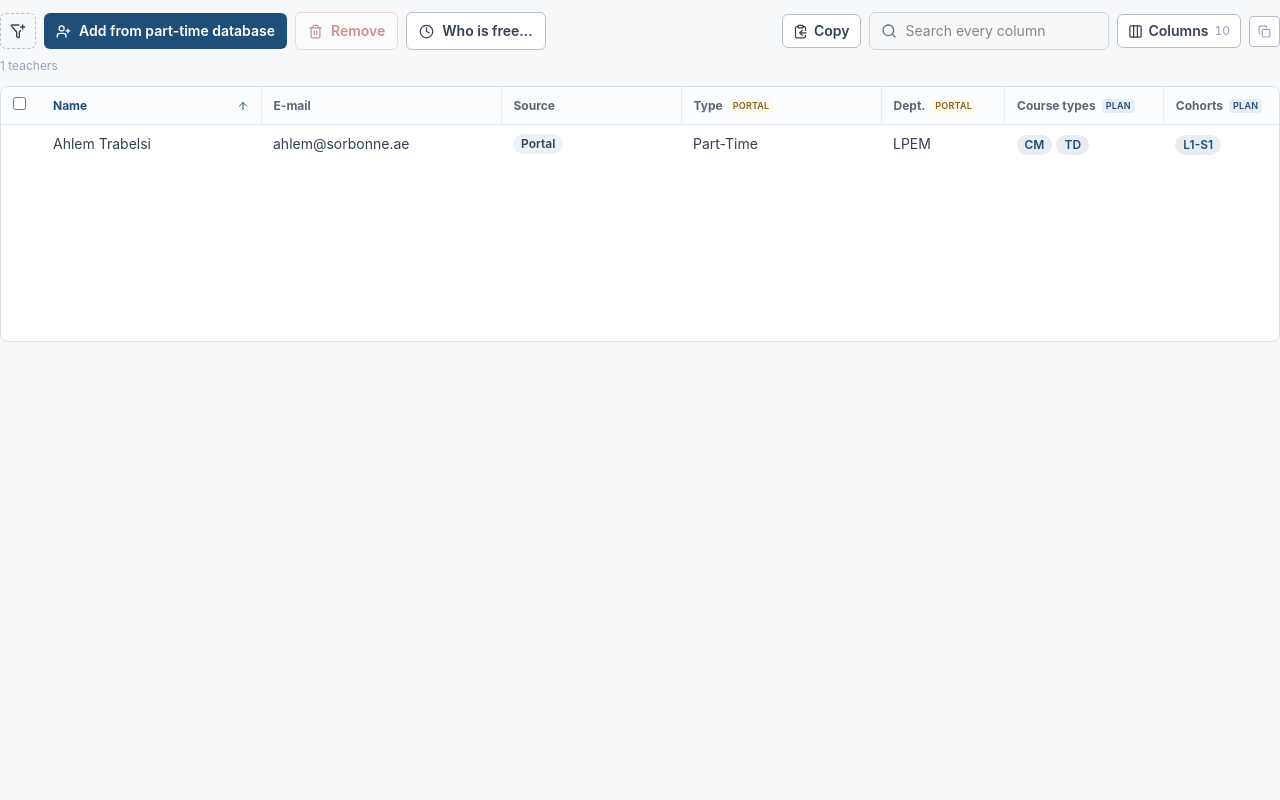
Scenario: the department's active teachers › adds teachers picked from the part-time database
Check: the text "Ahlem Trabelsi" is shown, box [53, 135, 151, 152]
Click the button "Add from part-time database" at (166, 31), box [44, 13, 287, 49]
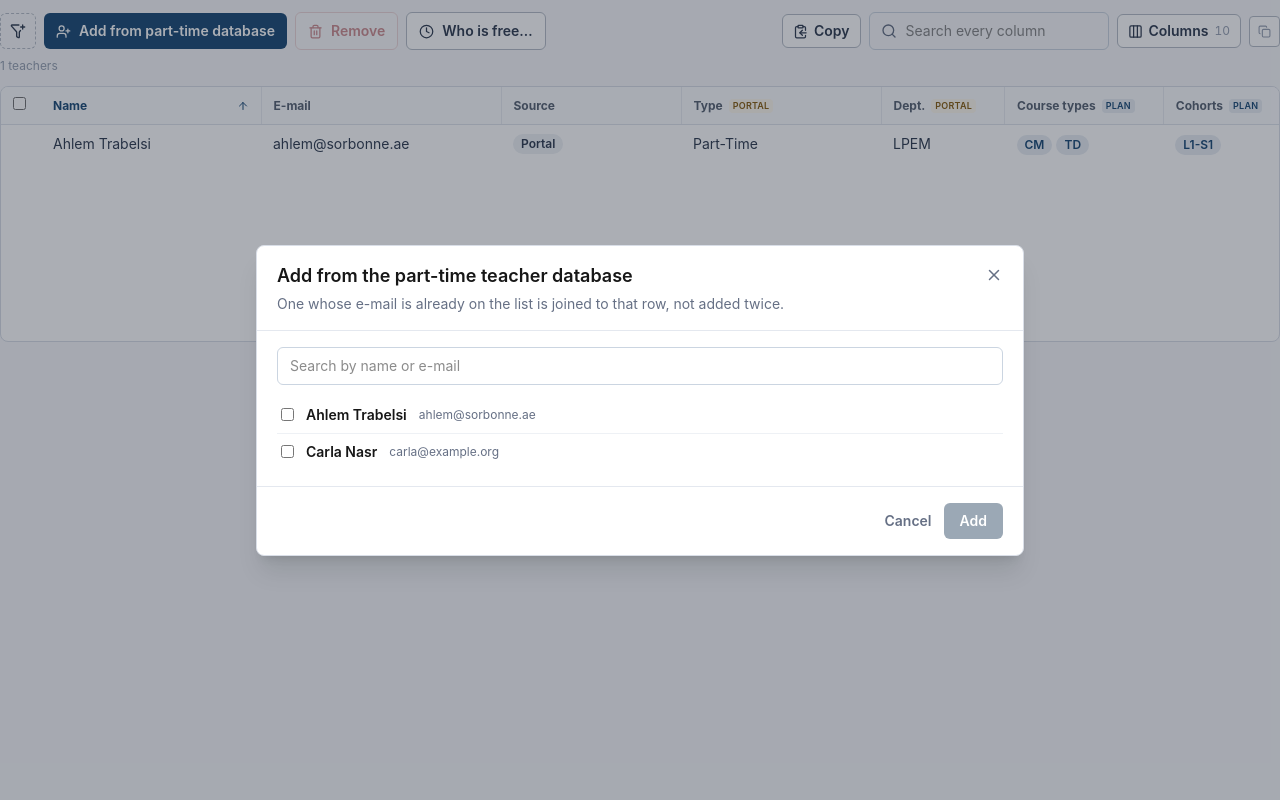
Check: the list named "Part-time teachers" shows "Carla Nasr"
Click the text "Carla Nasr" at (342, 452), box [306, 442, 377, 462]
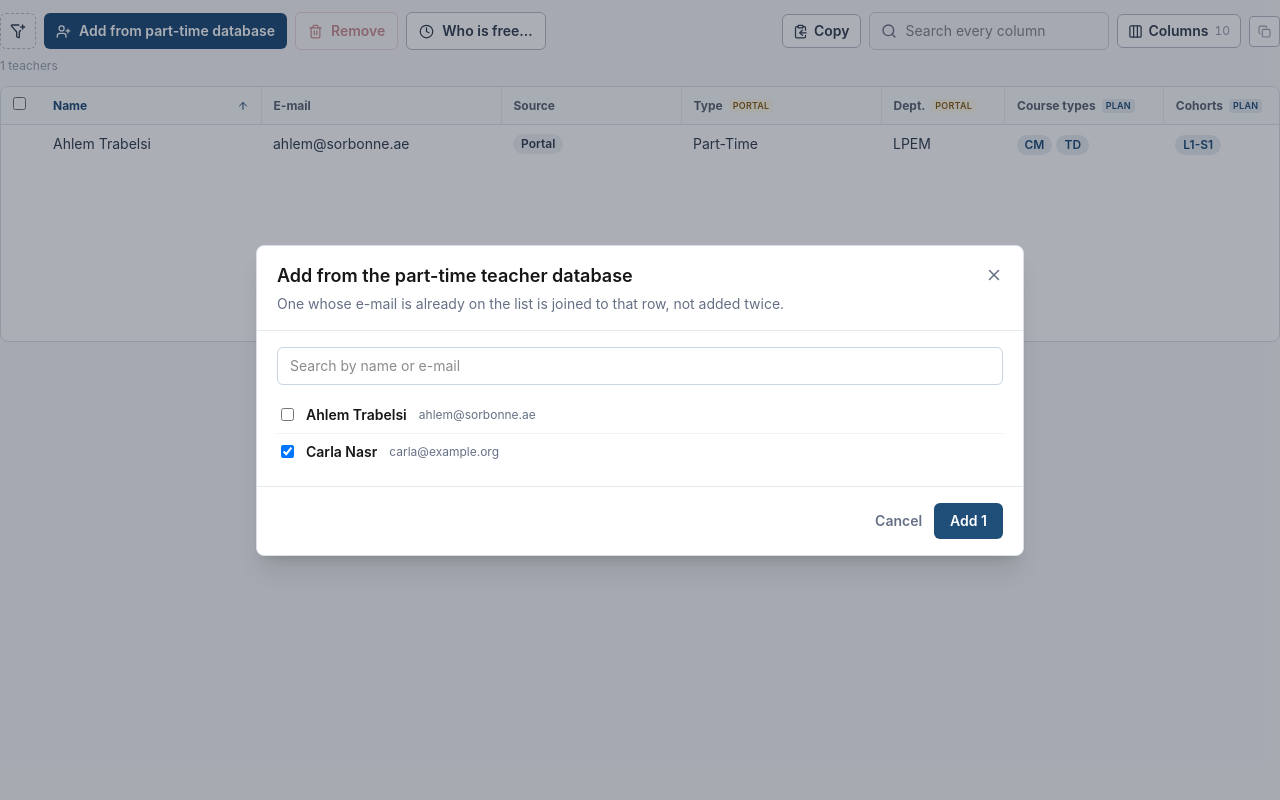
Click the button "Add 1" at (969, 520), box [934, 502, 1003, 538]
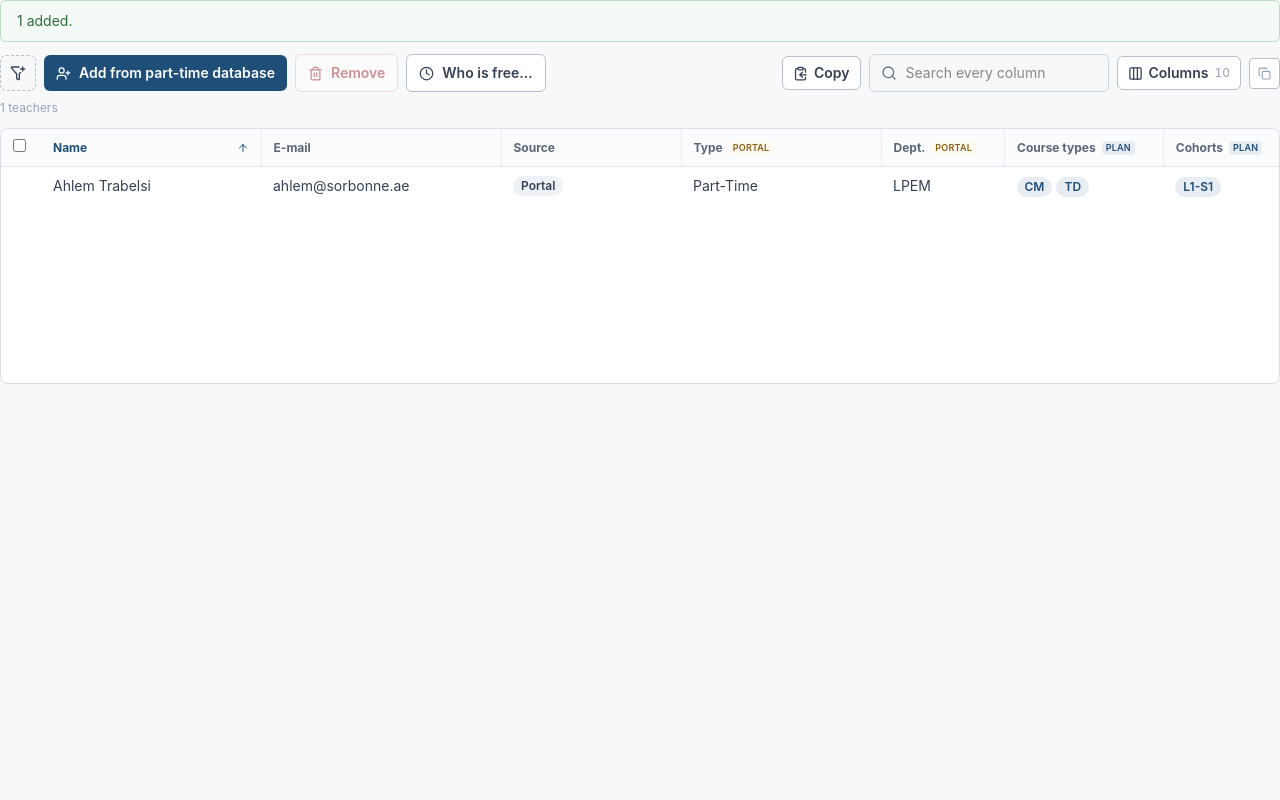
Check: the text "1 added." is shown, box [0, 0, 1279, 42]
